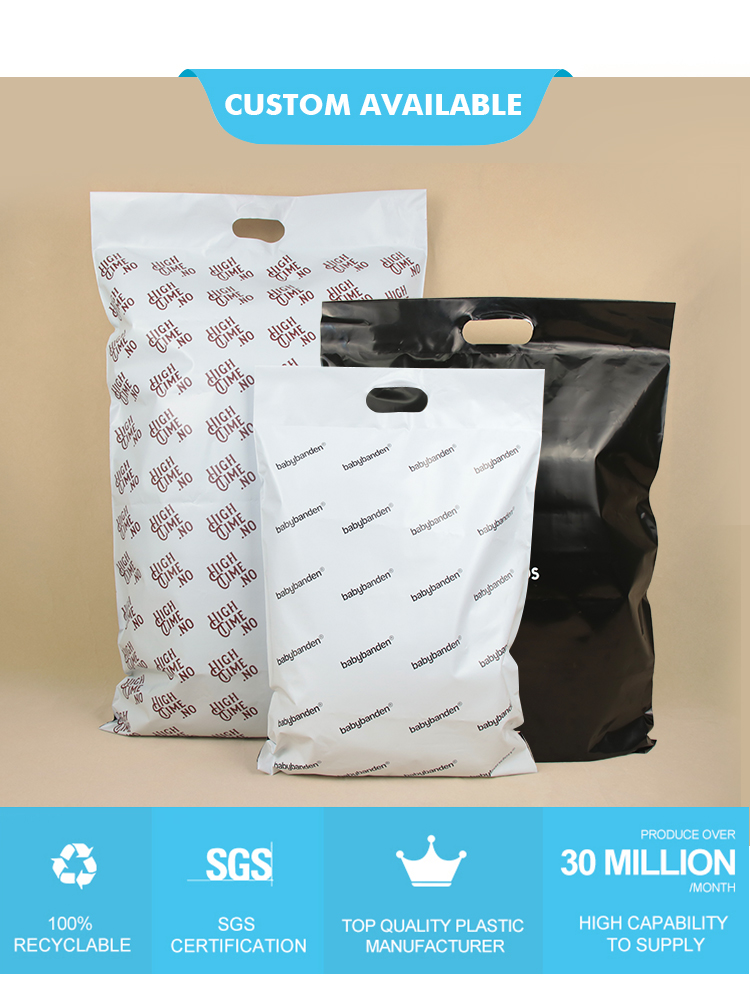塑料袋: (92, 191, 674, 763), (254, 369, 544, 777)
